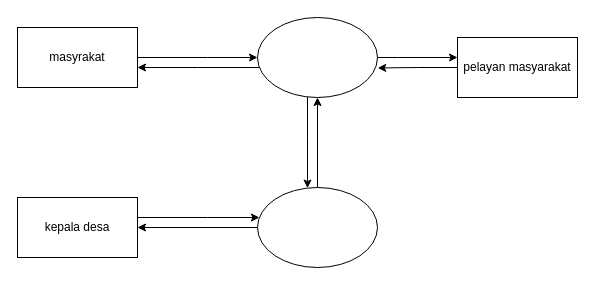
Image size: 595x285. Some labels were removed from this diagram. Each missing label, with the box of its shape:
simpan data: (256, 186, 378, 268)
Sistem Informasi: (256, 16, 378, 98)
